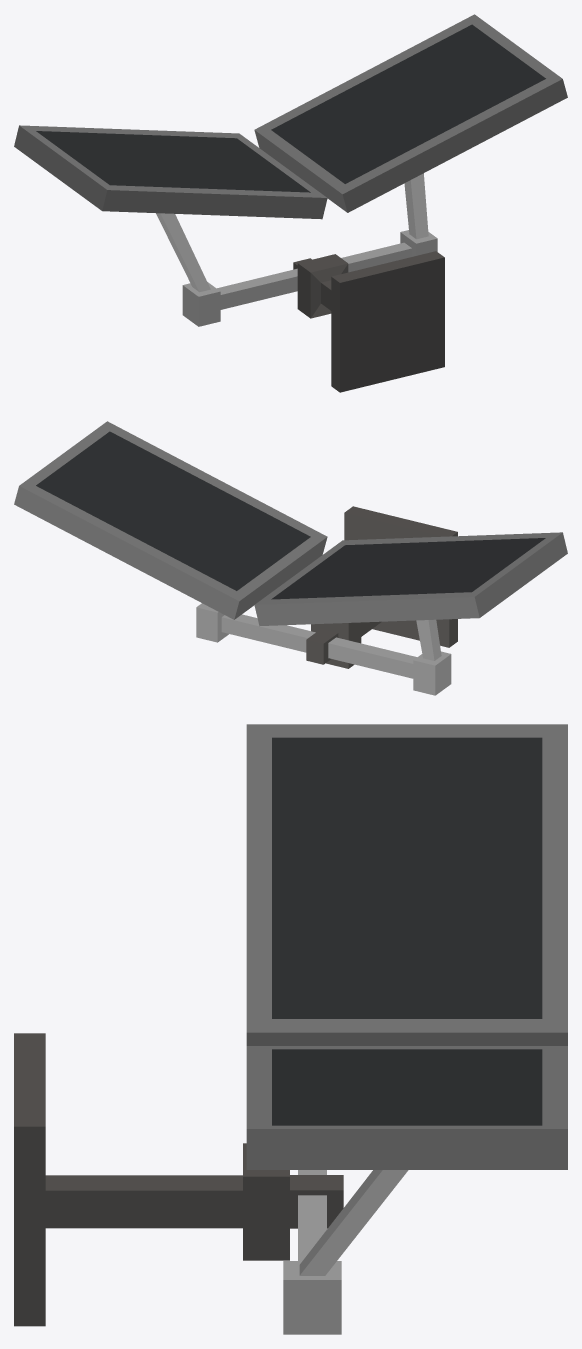
Rendered from Monitor2.glb.
3 views of the same model, one above another, from view 1: azimuth 30°, elevation 25°; view 2: azimuth 150°, elevation 25°; view 3: azimuth 270°, elevation 25° (orthographic). The views are drawn at different scales.
Visible parts, largest first — view 1: SO_Monitor_02; view 2: SO_Monitor_02; view 3: SO_Monitor_02.
Part boxes in pixels (box(x1,y1,x2,y2)): SO_Monitor_02: box(14, 14, 567, 392); SO_Monitor_02: box(14, 421, 567, 695); SO_Monitor_02: box(14, 724, 567, 1334).
Size of the model in its own units: 3.01 by 1.22 by 1.7.
Materials: 1 (1 with a texture image).
